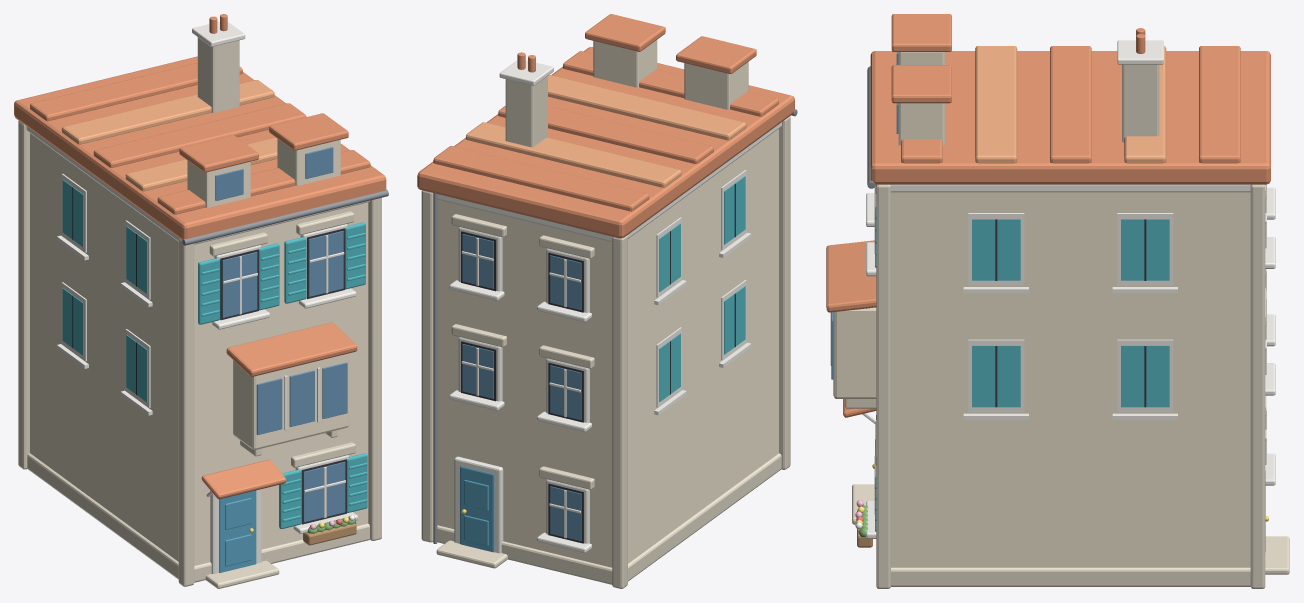
Rendered from terrace_d.fbx.
The picture shows the model from 3 angles, left to right: view 1: azimuth 30°, elevation 25°; view 2: azimuth 150°, elevation 25°; view 3: azimuth 270°, elevation 25°; orthographic projection. The views are drawn at different scales.
Visible parts, largest first — view 1: Visual; view 2: Visual; view 3: Visual.
Boxes of the visible parts, x1,y1,x2,y2 form: Visual: (14,14,388,588); Visual: (417,14,797,588); Visual: (826,14,1289,588).
Size of what is drawn, in the model's own units: 590 by 1256 by 995.
